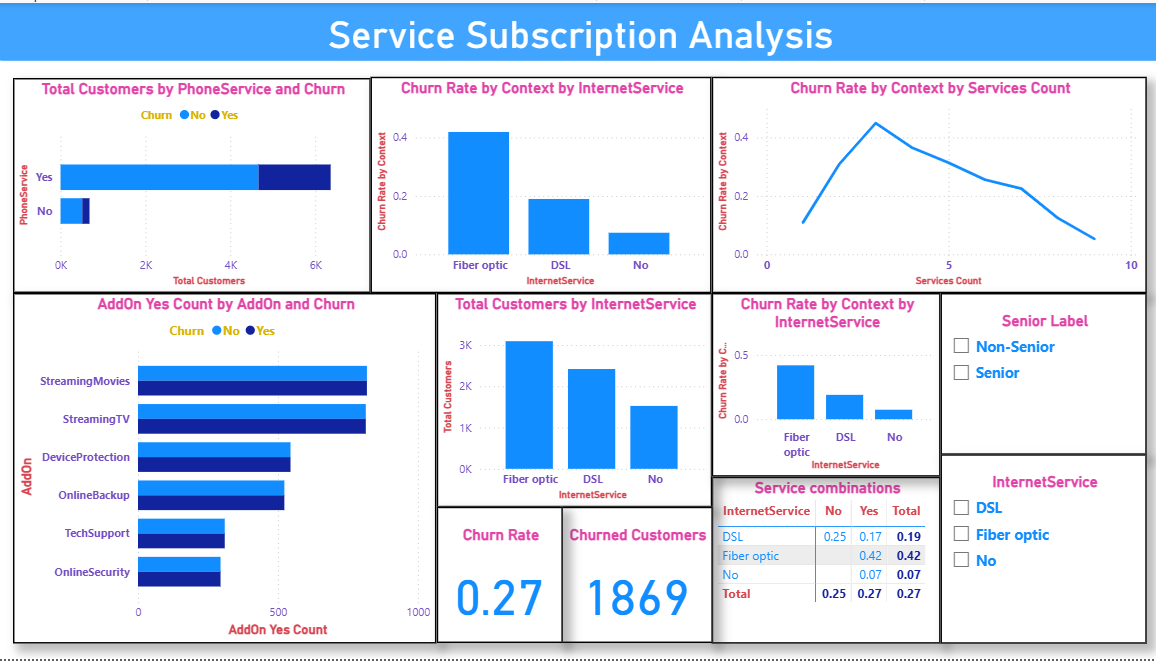

Layout of this report page (visuals, bound fields, positions):
{"tool":"powerbi","page":{"name":"Page 2","canvas":[1280,720],"ordinal":1},"visuals":[{"type":"textbox","title":"Service Subscription Analysis","box":[0,0,1280,64.7],"z":0},{"type":"barChart","fields":{"Category":["CustomerChurnAnalysis.PhoneService"],"Y":["CustomerChurnAnalysis.Total Customers"],"Series":["CustomerChurnAnalysis.Churn"]},"box":[16.2,82.1,393.1,236.4],"z":1000},{"type":"clusteredColumnChart","fields":{"Y":["CustomerChurnAnalysis.Churn Rate by Context"],"Category":["CustomerChurnAnalysis.InternetService"]},"box":[408.9,81,374.6,237.4],"z":2000},{"type":"clusteredBarChart","fields":{"Category":["AddOnMap.AddOn"],"Y":["AddOnMap.AddOn Yes Count"],"Series":["CustomerChurnAnalysis.Churn"]},"box":[16,318.3,465,385.1],"z":3000},{"type":"lineChart","fields":{"Y":["CustomerChurnAnalysis.Churn Rate by Context"],"Category":["CustomerChurnAnalysis.Services Count"]},"box":[783.5,81,477.5,237.4],"z":4000},{"type":"pivotTable","title":"Service combinations","fields":{"Rows":["CustomerChurnAnalysis.InternetService"],"Values":["CustomerChurnAnalysis.Churn Rate by Context"],"Columns":["CustomerChurnAnalysis.PhoneService"]},"box":[783.3,520.3,251.4,183.1],"z":5000},{"type":"columnChart","fields":{"Category":["CustomerChurnAnalysis.InternetService"],"Y":["CustomerChurnAnalysis.Total Customers"]},"box":[481,318.3,302.3,235.4],"z":6000},{"type":"columnChart","fields":{"Category":["CustomerChurnAnalysis.InternetService"],"Y":["CustomerChurnAnalysis.Churn Rate by Context"]},"box":[783.3,318.3,251.4,202],"z":7000},{"type":"slicer","title":"Senior Label","fields":{"Values":["CustomerChurnAnalysis.Senior Label"]},"box":[1034.7,318.3,226.7,177.3],"z":8000},{"type":"slicer","title":"InternetService","fields":{"Values":["CustomerChurnAnalysis.InternetService"]},"box":[1034.7,495.6,226.7,207.8],"z":9000},{"type":"card","title":"Churned Customers","fields":{"Values":["CustomerChurnAnalysis.Churned Customers"]},"box":[617.6,553.7,167.1,149.7],"z":10000},{"type":"card","title":"Churn Rate","fields":{"Values":["CustomerChurnAnalysis.Churn Rate"]},"box":[481,553.7,138.1,149.7],"z":11000}]}

Visuals, with their boxes in screenshot pixels (x1, y1, x2, y2), scaled from the page's 1280x720 canvas onto the 1156x661 screenshot:
"Service Subscription Analysis" textbox: 0,0,1155,59
barChart - CustomerChurnAnalysis.PhoneService x CustomerChurnAnalysis.Total Customers: 15,75,370,292
clusteredColumnChart - CustomerChurnAnalysis.Churn Rate by Context x CustomerChurnAnalysis.InternetService: 369,74,708,292
clusteredBarChart - AddOnMap.AddOn x AddOnMap.AddOn Yes Count: 14,292,434,646
lineChart - CustomerChurnAnalysis.Churn Rate by Context x CustomerChurnAnalysis.Services Count: 708,74,1139,292
"Service combinations" pivotTable: 707,478,934,646
columnChart - CustomerChurnAnalysis.InternetService x CustomerChurnAnalysis.Total Customers: 434,292,707,508
columnChart - CustomerChurnAnalysis.InternetService x CustomerChurnAnalysis.Churn Rate by Context: 707,292,934,478
"Senior Label" slicer: 934,292,1139,455
"InternetService" slicer: 934,455,1139,646
"Churned Customers" card: 558,508,709,646
"Churn Rate" card: 434,508,559,646
